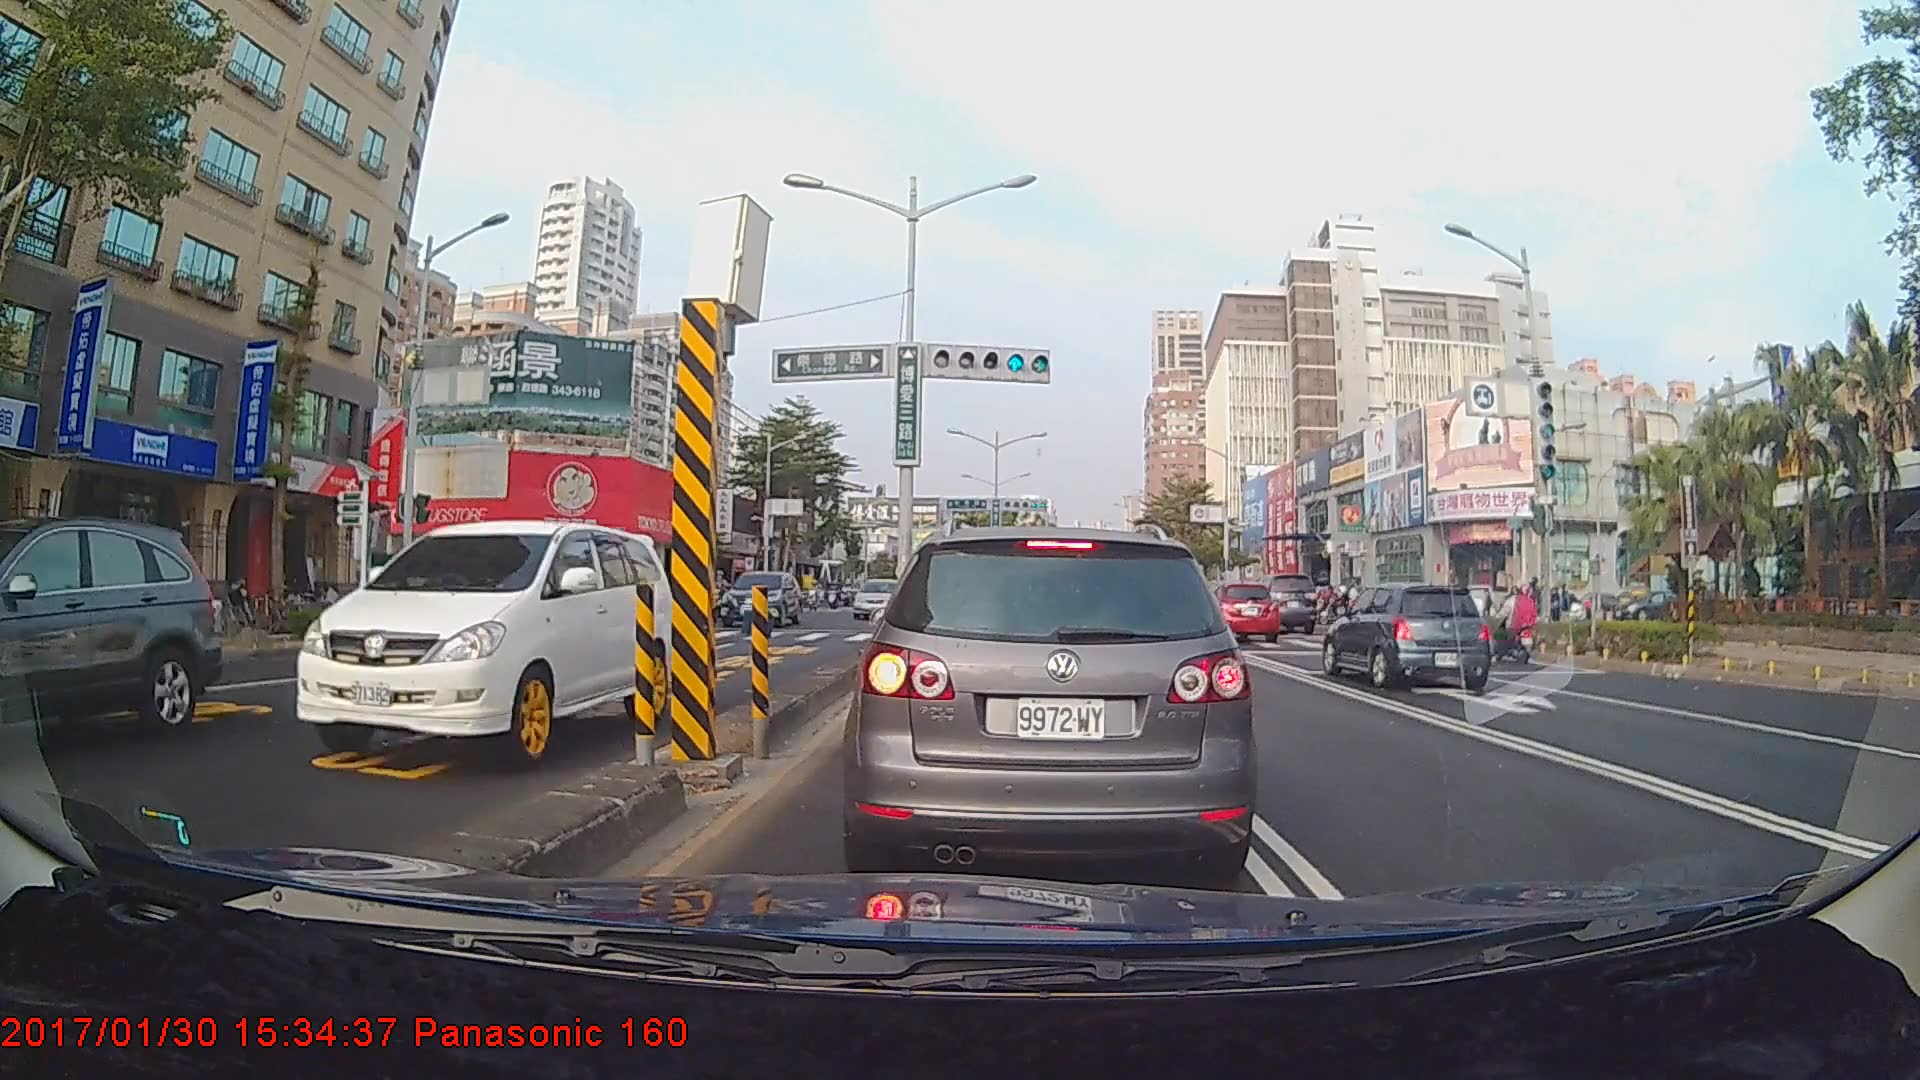vehicle: (853, 522, 1251, 878), (291, 518, 682, 766), (0, 516, 222, 760), (1320, 580, 1493, 690), (1232, 570, 1317, 636), (1197, 580, 1280, 644), (721, 570, 802, 628), (851, 578, 907, 618)
